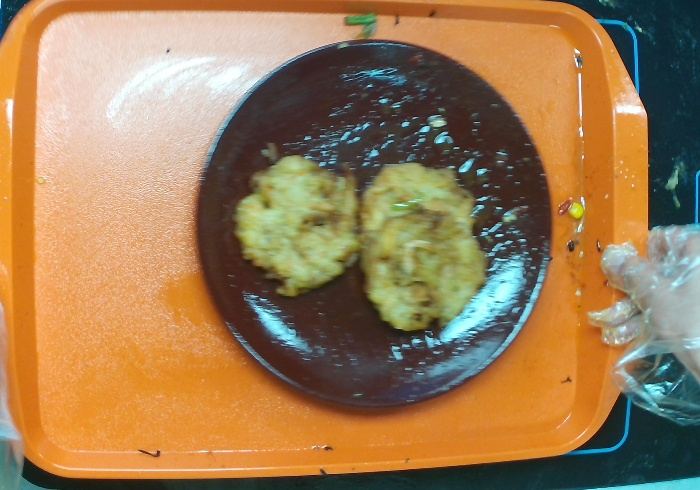HZYJPL-Ka_Fei_Yuan_Pan: (194, 37, 553, 408)
